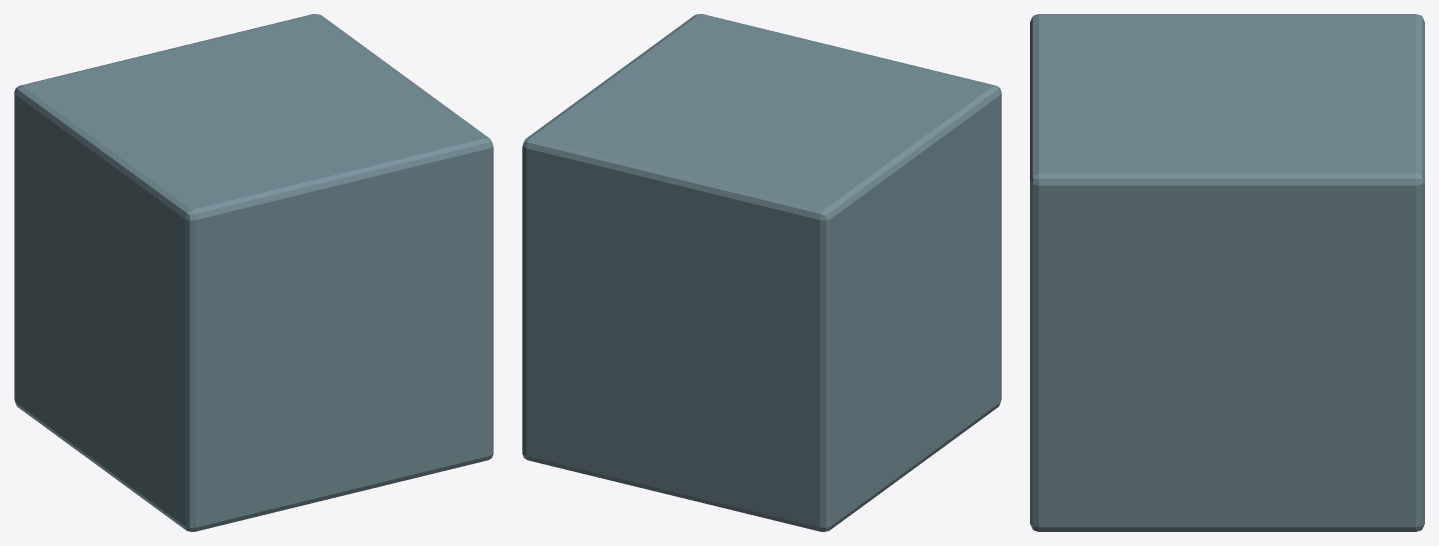
File: platform.glb
3 renders of one model, left to right at view 1: azimuth 30°, elevation 25°; view 2: azimuth 150°, elevation 25°; view 3: azimuth 270°, elevation 25°, orthographic. The views are drawn at different scales.
Visible parts, largest first — view 1: Cube; view 2: Cube; view 3: Cube.
Boxes of the visible parts, x1=… form: Cube: x1=14, y1=14, x2=493, y2=531; Cube: x1=522, y1=14, x2=1001, y2=531; Cube: x1=1030, y1=14, x2=1424, y2=531.
Bounding box in the file's own units: 2 × 2 × 2.
